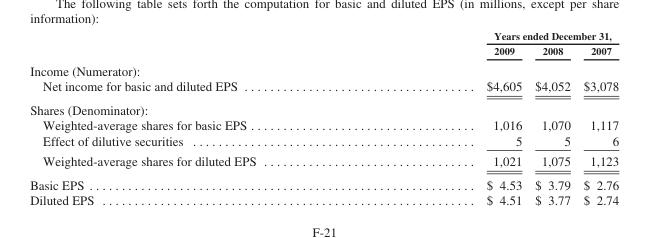table: (29, 29, 618, 206)
table column: (29, 29, 370, 206), (370, 29, 527, 206), (527, 29, 576, 206), (576, 29, 618, 206)
table column header: (29, 29, 618, 59)
table projected row header: (29, 97, 618, 117), (29, 59, 618, 78)
table row: (29, 150, 618, 172), (29, 97, 618, 117), (29, 59, 618, 78), (29, 78, 618, 97), (29, 172, 618, 191), (29, 132, 618, 150), (29, 42, 618, 59), (29, 117, 618, 132), (29, 191, 618, 206), (29, 29, 618, 42)
table spanning cell: (370, 29, 618, 42)
